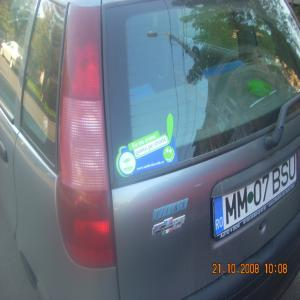Vehicle-registration-plate: (213, 153, 299, 239)
